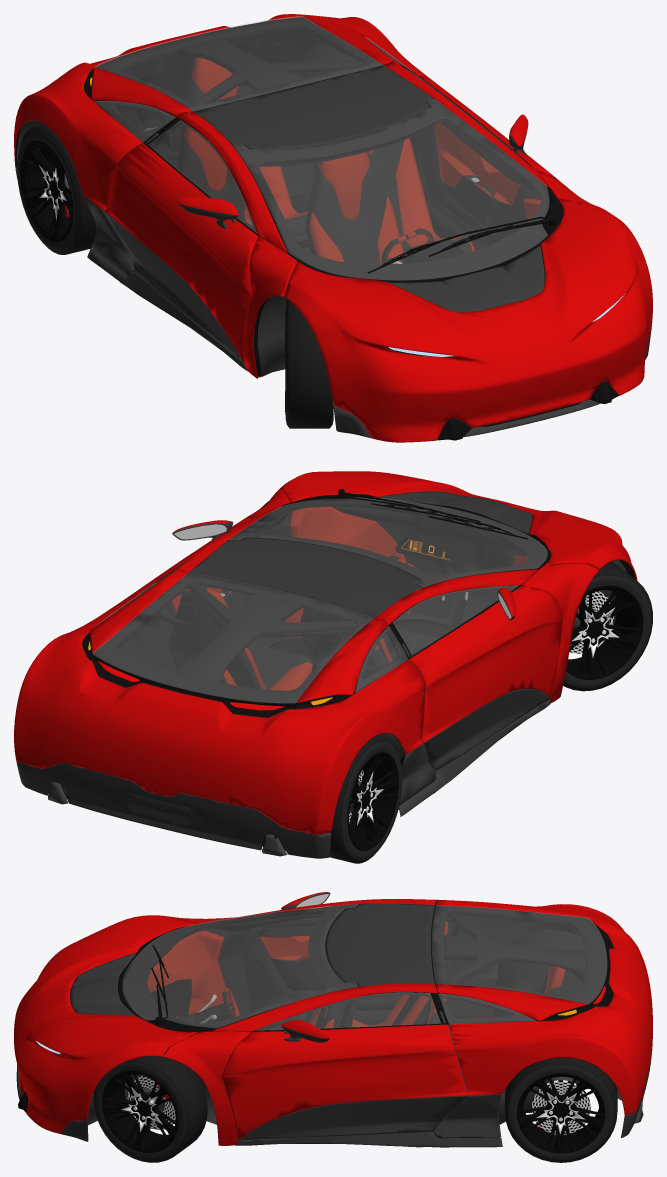
File: concept-mobile.glb
3 views of the same model, one above another, from view 1: azimuth 30°, elevation 25°; view 2: azimuth 150°, elevation 25°; view 3: azimuth 270°, elevation 25° (orthographic). The views are drawn at different scales.
Visible parts, largest first — view 1: BodyHood, BodyWindshield, BodyRearwindow, BodyDoorRColor1, BodyRearPanelsColor1, BodyRoofPanel, BodyWindshieldGasket, InteriorSeatsColor1, InteriorSeatsColor2, BodyPillars, InteriorPillar, InteriorRearHatch (+21 smaller); view 2: BodyRearPanelsColor1, BodyRearwindow, BodyWindshield, BodyPanelsColor2, BodyDoorRColor1, BodyRoofPanel, BodyHood, InteriorRearHatch, BodyPillars, InteriorPillar, InteriorDashMid, BodyWindshieldGasket (+21 smaller); view 3: BodyRearPanelsColor1, BodyWindshield, BodyDoorLColor1, BodyHood, BodyRearwindow, BodyRoofPanel, BodyPillars, BodyWindshieldGasket, BodyDoorLColor2, BodyPanelsColor2, WheelFrontL, InteriorRearHatch (+25 smaller).
Boxes of the visible parts, left/top/right/bottom form: BodyHood: left=283, top=198, right=652, bottom=442; BodyWindshield: left=234, top=98, right=549, bottom=280; BodyRearwindow: left=95, top=16, right=382, bottom=110; BodyDoorRColor1: left=104, top=143, right=257, bottom=363; BodyRearPanelsColor1: left=14, top=14, right=429, bottom=210; BodyRoofPanel: left=193, top=65, right=432, bottom=150; BodyWindshieldGasket: left=234, top=99, right=563, bottom=282; InteriorSeatsColor1: left=185, top=57, right=475, bottom=264; InteriorSeatsColor2: left=180, top=78, right=472, bottom=264; BodyPillars: left=176, top=61, right=598, bottom=378; InteriorPillar: left=158, top=37, right=434, bottom=168; InteriorRearHatch: left=93, top=17, right=383, bottom=117; BodyRearPanelsColor1: left=14, top=569, right=425, bottom=834; BodyRearwindow: left=92, top=573, right=373, bottom=703; BodyWindshield: left=229, top=497, right=547, bottom=587; BodyPanelsColor2: left=16, top=700, right=550, bottom=858; BodyDoorRColor1: left=409, top=585, right=562, bottom=742; BodyRoofPanel: left=189, top=537, right=422, bottom=617; BodyHood: left=279, top=471, right=637, bottom=580; InteriorRearHatch: left=93, top=573, right=386, bottom=707; BodyPillars: left=175, top=489, right=599, bottom=702; InteriorPillar: left=174, top=574, right=417, bottom=682; InteriorDashMid: left=331, top=503, right=528, bottom=622; BodyWindshieldGasket: left=230, top=497, right=550, bottom=587; BodyRearPanelsColor1: left=436, top=899, right=652, bottom=1115; BodyWindshield: left=122, top=904, right=357, bottom=1028; BodyDoorLColor1: left=222, top=1024, right=467, bottom=1140; BodyHood: left=14, top=915, right=196, bottom=1133; BodyRearwindow: left=432, top=905, right=606, bottom=1003; BodyRoofPanel: left=326, top=903, right=434, bottom=986; BodyPillars: left=163, top=899, right=437, bottom=1145; BodyWindshieldGasket: left=118, top=905, right=357, bottom=1032; BodyDoorLColor2: left=240, top=1096, right=467, bottom=1140; BodyPanelsColor2: left=16, top=1046, right=652, bottom=1147; WheelFrontL: left=93, top=1054, right=207, bottom=1162; InteriorRearHatch: left=431, top=905, right=606, bottom=1021.
Bounding box in the file's own units: 2.54 × 1.15 × 4.36.
Materials: 22 (2 with a texture image).
